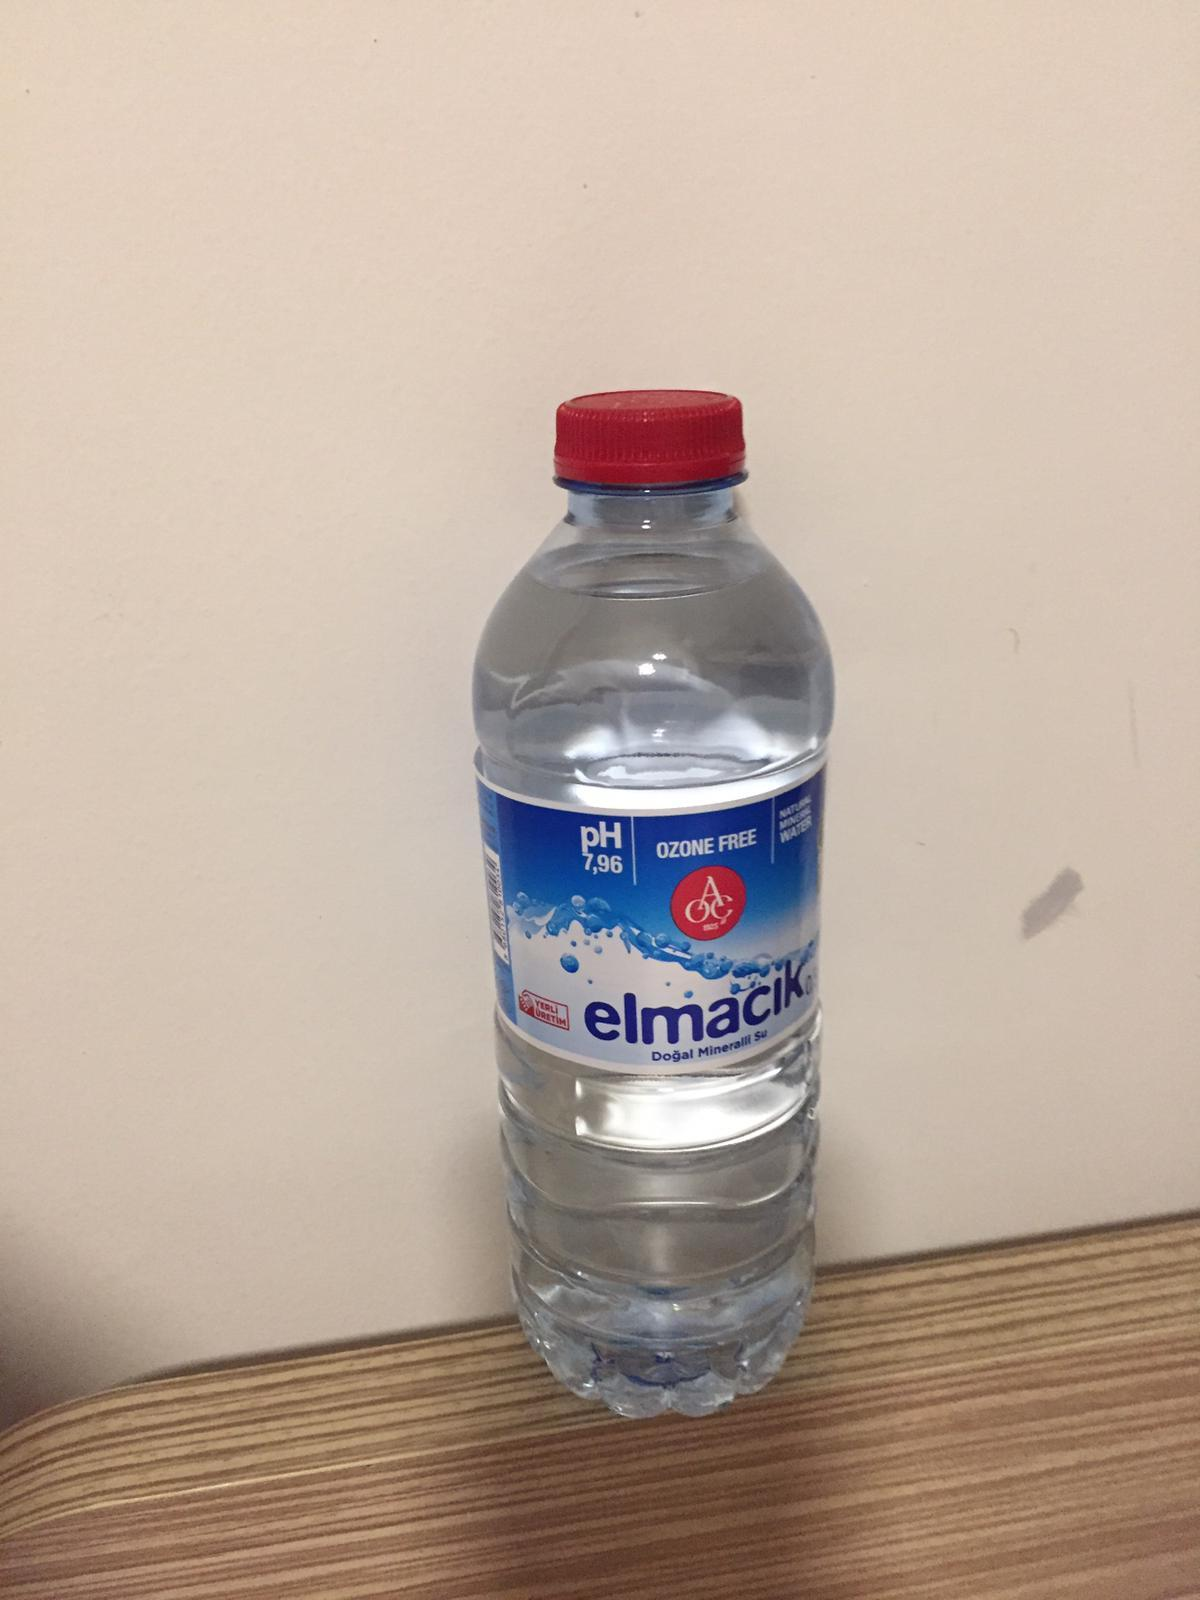bottle: (482, 378, 831, 1420)
